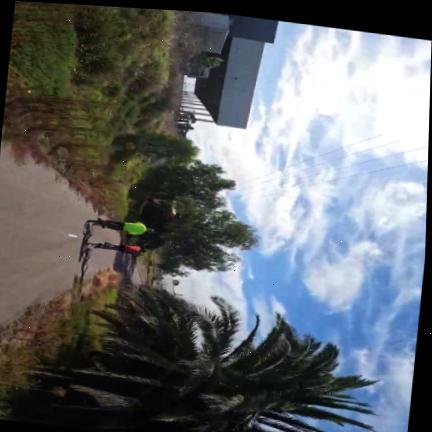Bike_Lane: (0, 127, 96, 329), (84, 248, 115, 278), (90, 227, 119, 243)
